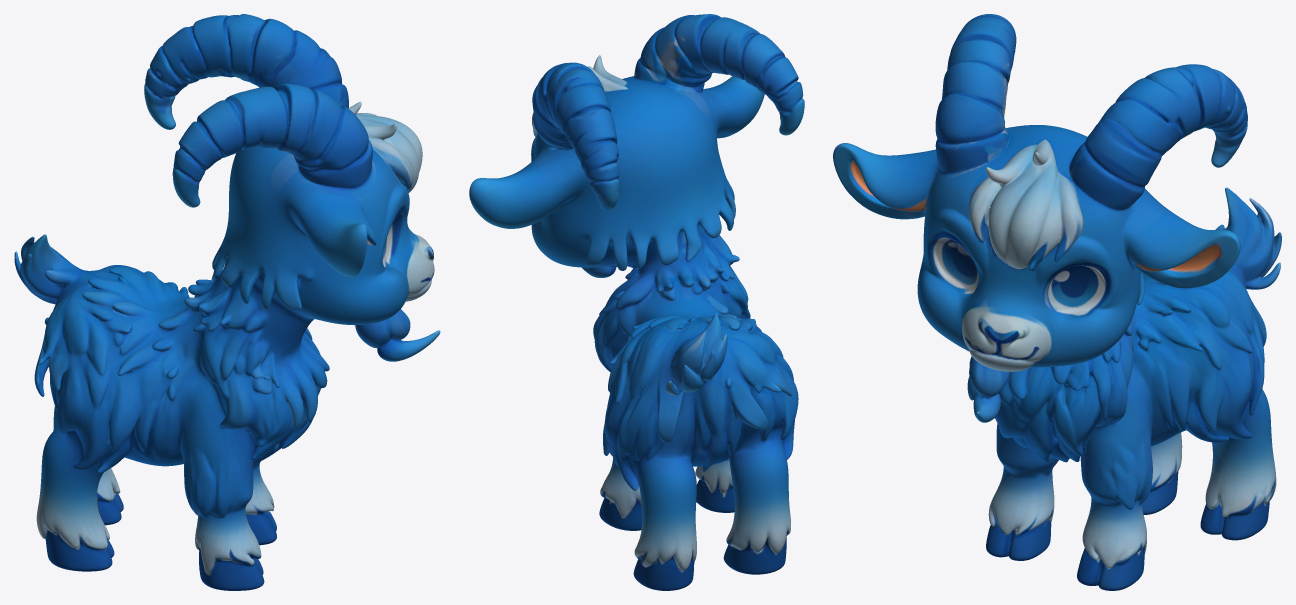
File: goat.glb
3 views of the same model, side by side, from view 1: azimuth 30°, elevation 25°; view 2: azimuth 150°, elevation 25°; view 3: azimuth 270°, elevation 25° (orthographic). The views are drawn at different scales.
Parts seen in each view (by area): view 1: tripo_node_8f1616c2-a18e-48ad-9827-4b62c1bd1369; view 2: tripo_node_8f1616c2-a18e-48ad-9827-4b62c1bd1369; view 3: tripo_node_8f1616c2-a18e-48ad-9827-4b62c1bd1369.
Part boxes in pixels (x1=…): tripo_node_8f1616c2-a18e-48ad-9827-4b62c1bd1369: x1=14, y1=14, x2=440, y2=590; tripo_node_8f1616c2-a18e-48ad-9827-4b62c1bd1369: x1=469, y1=14, x2=804, y2=590; tripo_node_8f1616c2-a18e-48ad-9827-4b62c1bd1369: x1=833, y1=14, x2=1281, y2=590.
Bounding box in the file's own units: 0.6687 × 1 × 0.7656.
Materials: 1 (1 with a texture image).
